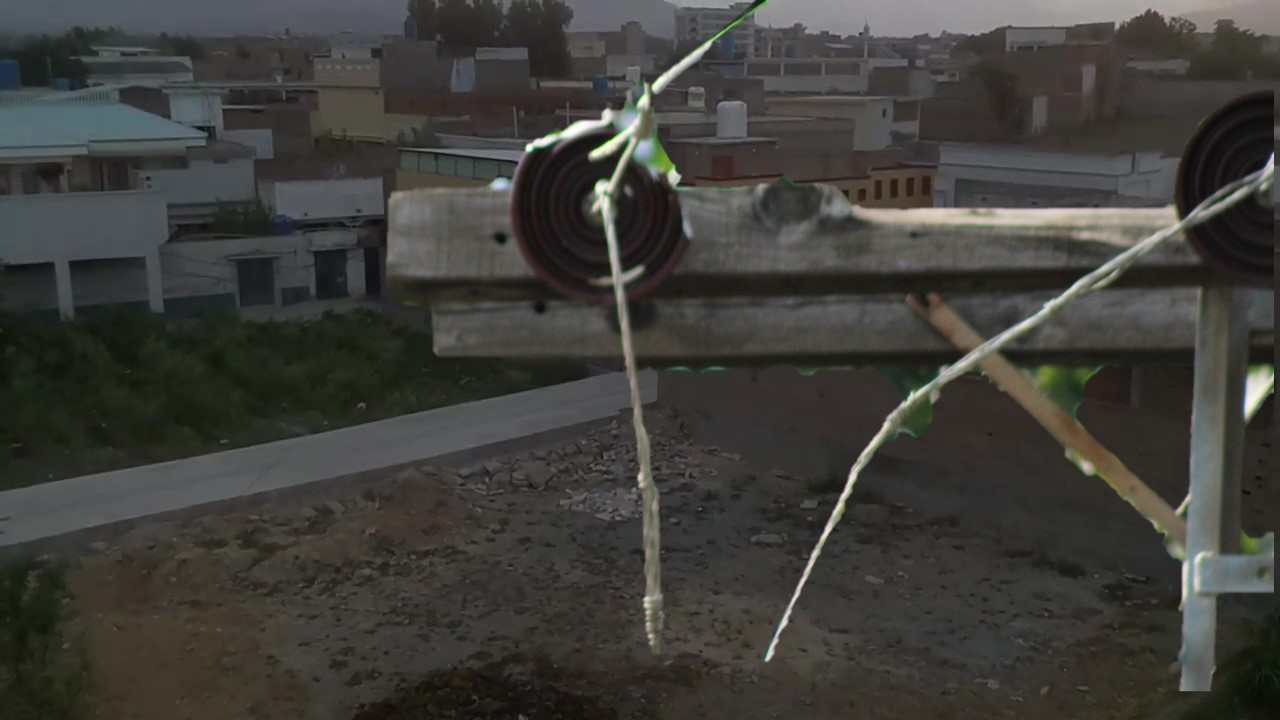defect_disc: (506, 102, 700, 310)
